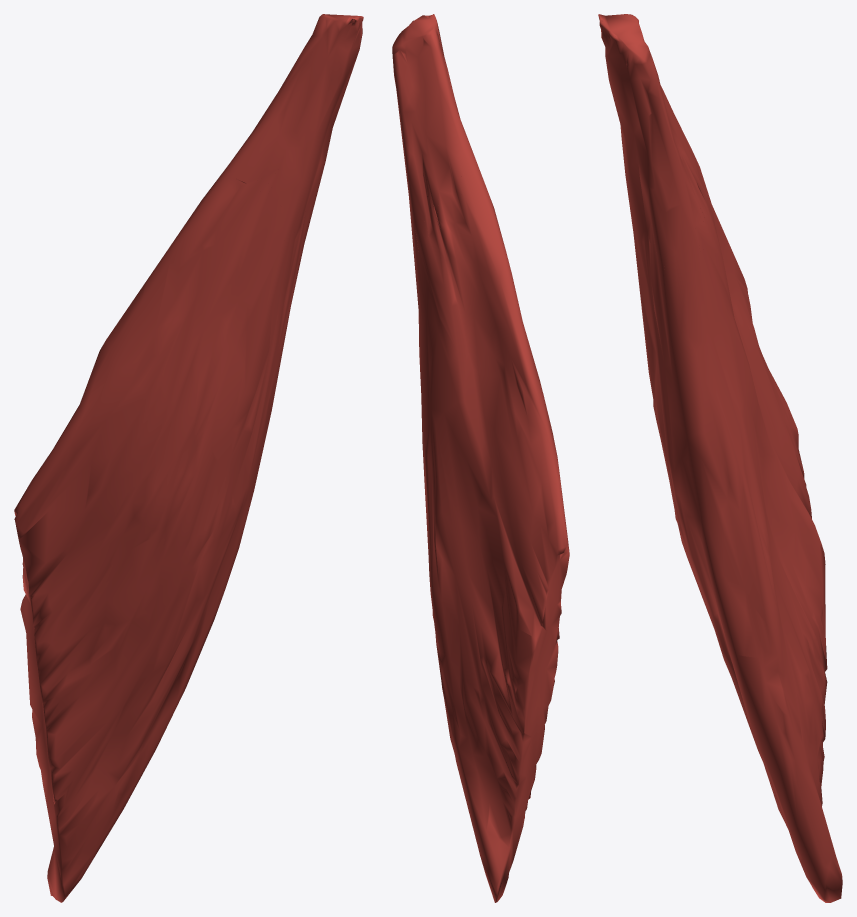
Rendered from musculos-adductor-longus-r.glb.
The picture shows the model from 3 angles, left to right: view 1: azimuth 30°, elevation 25°; view 2: azimuth 150°, elevation 25°; view 3: azimuth 270°, elevation 25°; orthographic projection. The views are drawn at different scales.
Visible parts, largest first — view 1: Adductor longus.r; view 2: Adductor longus.r; view 3: Adductor longus.r.
Boxes of the visible parts, box(x1,y1,x2,y2) form: Adductor longus.r: box(14, 14, 363, 902); Adductor longus.r: box(392, 14, 569, 902); Adductor longus.r: box(598, 14, 842, 902).
Bounding box in the file's own units: 0.0831 × 0.2648 × 0.0596.
